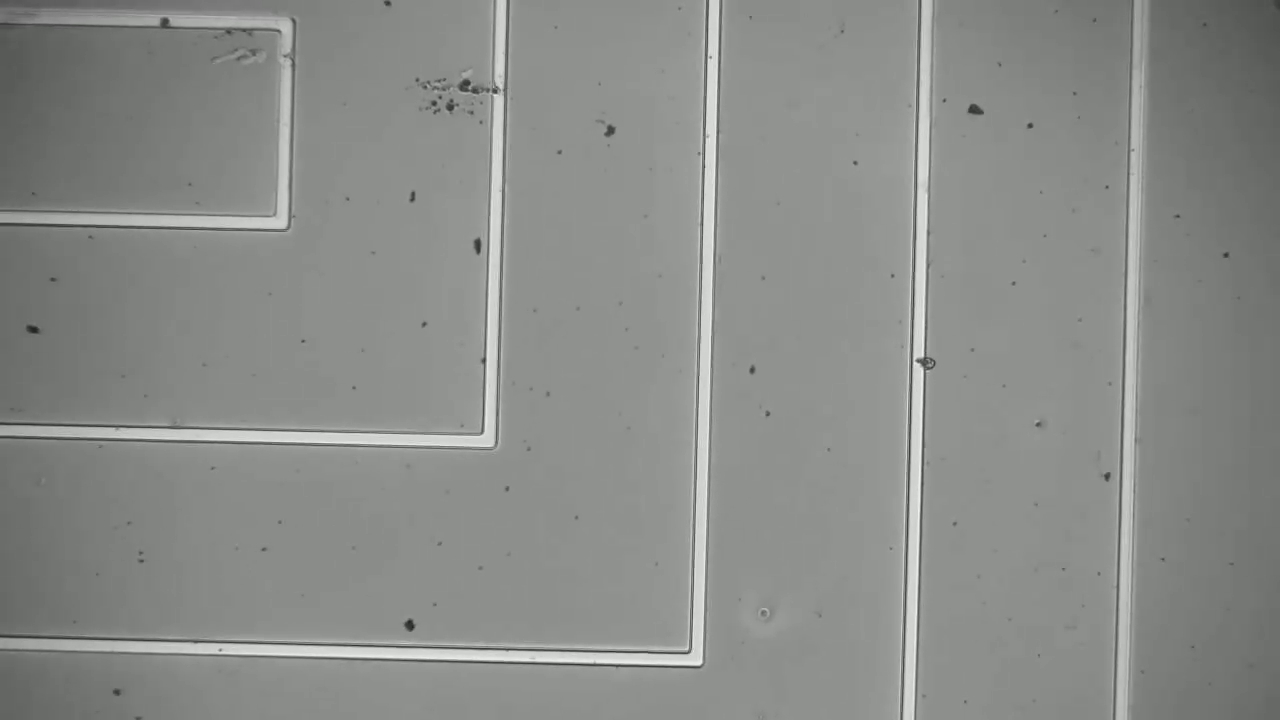stains_enbedded: (147, 2, 183, 38), (901, 347, 941, 372)
